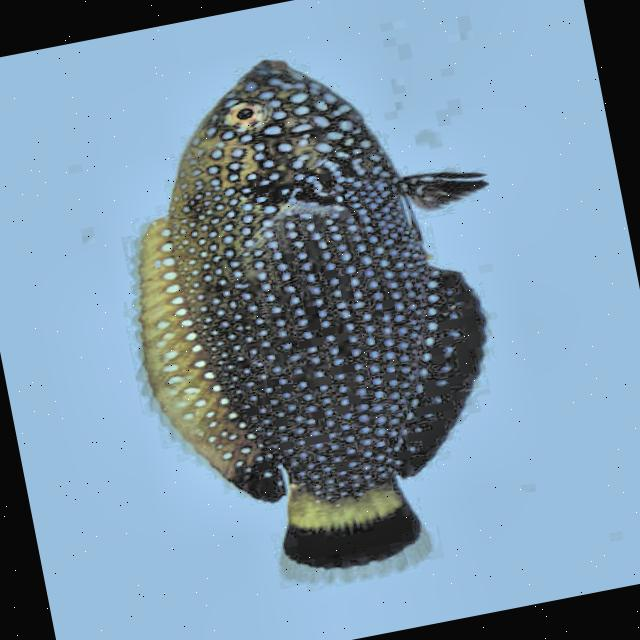fish: (84, 22, 560, 610)
